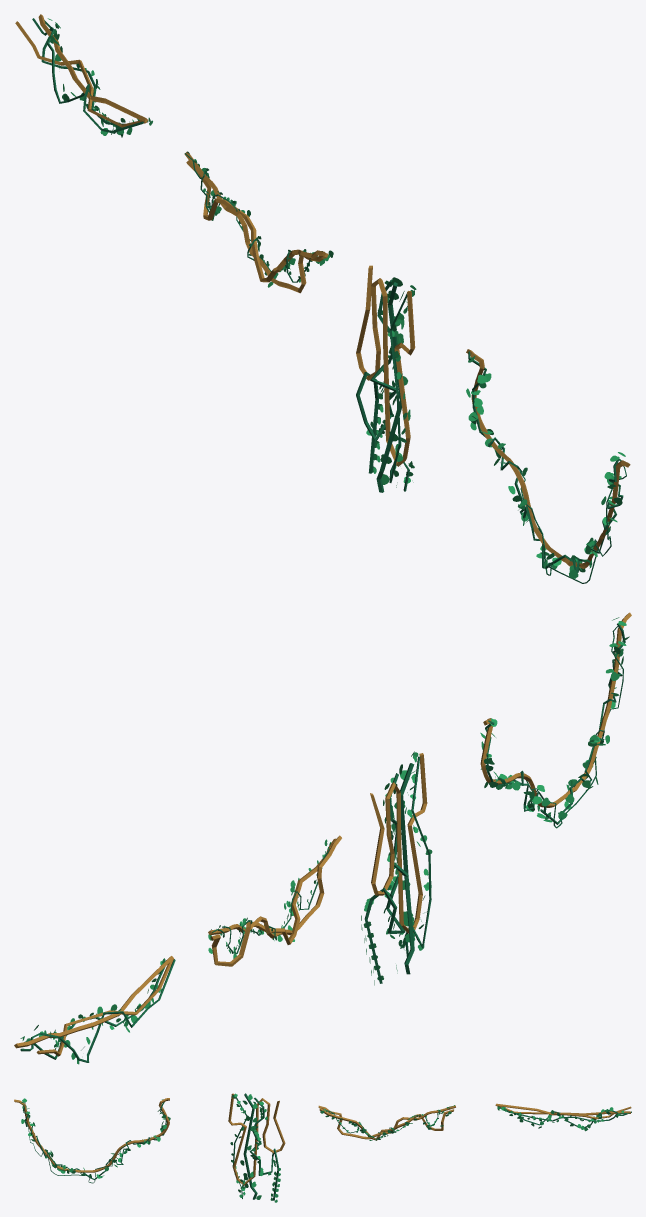
The model's file is Owens_Vines.fbx.
3 views of the same model, one above another, from view 1: azimuth 30°, elevation 25°; view 2: azimuth 150°, elevation 25°; view 3: azimuth 270°, elevation 25° (orthographic). The views are drawn at different scales.
Visible parts, largest first — view 1: VNE2, VNE1, VNE3, VNE4; view 2: VNE2, VNE1, VNE4, VNE3; view 3: VNE2, VNE1, VNE4, VNE3.
Boxes of the visible parts, x1,y1,x2,y2 form: VNE2: (356, 265, 416, 492); VNE1: (466, 349, 630, 583); VNE3: (184, 151, 333, 293); VNE4: (15, 14, 152, 137); VNE2: (361, 751, 432, 985); VNE1: (480, 612, 631, 828); VNE4: (14, 956, 175, 1064); VNE3: (208, 835, 341, 966); VNE2: (228, 1093, 285, 1202); VNE1: (14, 1098, 170, 1183); VNE4: (495, 1103, 631, 1131); VNE3: (318, 1105, 455, 1140).
Size of the model in its own units: 1.31 by 5.78 by 29.76.
